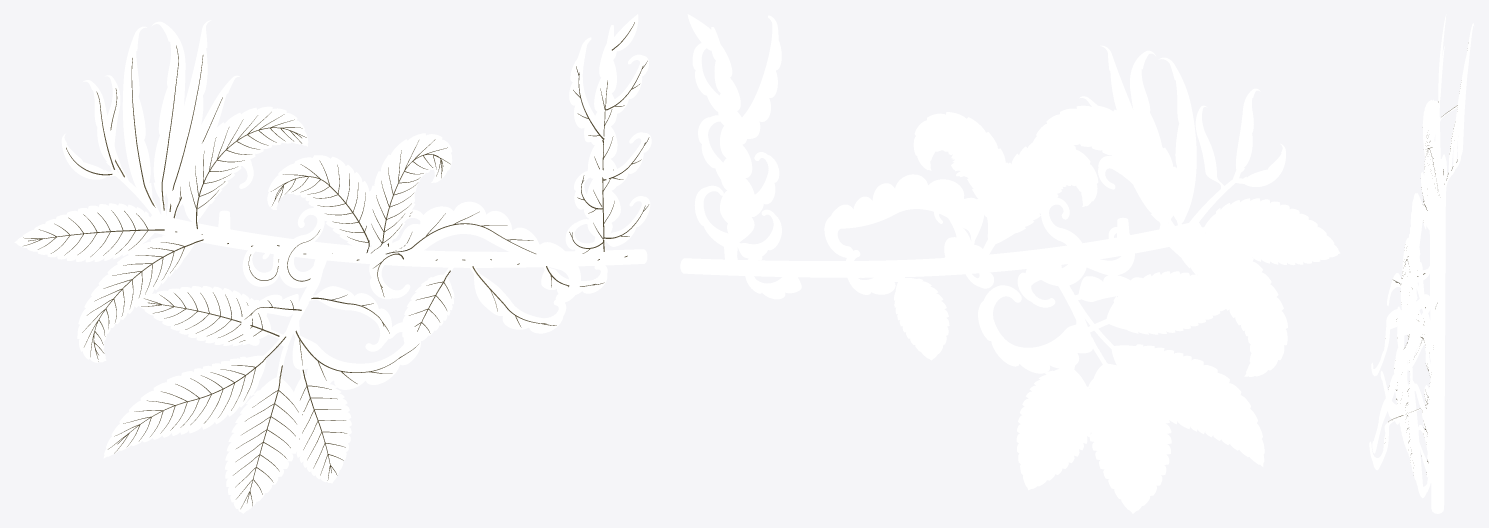
The model's file is branch.glb.
3 renders of one model, left to right at view 1: azimuth 30°, elevation 25°; view 2: azimuth 150°, elevation 25°; view 3: azimuth 270°, elevation 25°, orthographic. The views are drawn at different scales.
Parts seen in each view (by area): view 1: L05, L06, L02, BR_main, L03, L01, A06, L08, L09, L04, L07, RS (+27 smaller); view 2: L05, BR_main, L06, L07, L03, L01, L08, L04, L09, A06, RS, A04 (+19 smaller); view 3: BR_main, L07, A06, L08, RS, L02, L09, A04, P2, A04b, L01, A07 (+21 smaller).
Part boxes in pixels (<box>): L05: <box>103,301,308,458</box>; L06: <box>225,346,304,513</box>; L02: <box>182,106,308,236</box>; BR_main: <box>150,215,647,267</box>; L03: <box>77,233,211,362</box>; L01: <box>14,203,173,262</box>; A06: <box>385,201,580,302</box>; L08: <box>267,155,371,258</box>; L09: <box>366,133,452,258</box>; L04: <box>134,286,289,346</box>; L07: <box>294,321,351,483</box>; RS: <box>587,25,620,260</box>; L05: <box>1071,289,1264,466</box>; BR_main: <box>680,223,1202,277</box>; L06: <box>1088,337,1171,513</box>; L07: <box>1016,321,1094,490</box>; L03: <box>1170,232,1287,376</box>; L01: <box>1202,198,1340,265</box>; L08: <box>983,142,1098,254</box>; L04: <box>1088,271,1225,334</box>; L09: <box>913,112,1008,255</box>; A06: <box>824,174,984,257</box>; RS: <box>710,27,755,254</box>; A04: <box>978,285,1092,373</box>; BR_main: <box>1429,169,1445,513</box>; L07: <box>1405,334,1422,486</box>; A06: <box>1372,306,1422,453</box>; L08: <box>1409,193,1430,329</box>; RS: <box>1426,293,1441,483</box>; L02: <box>1424,124,1442,205</box>; L09: <box>1400,238,1424,325</box>; A04: <box>1380,337,1410,424</box>; P2: <box>1446,28,1472,179</box>; A04b: <box>1371,309,1411,376</box>; L01: <box>1422,99,1439,158</box>; A07: <box>1369,403,1428,470</box>.
Bounding box in the file's own units: 4.69 × 3.42 × 0.7934.
